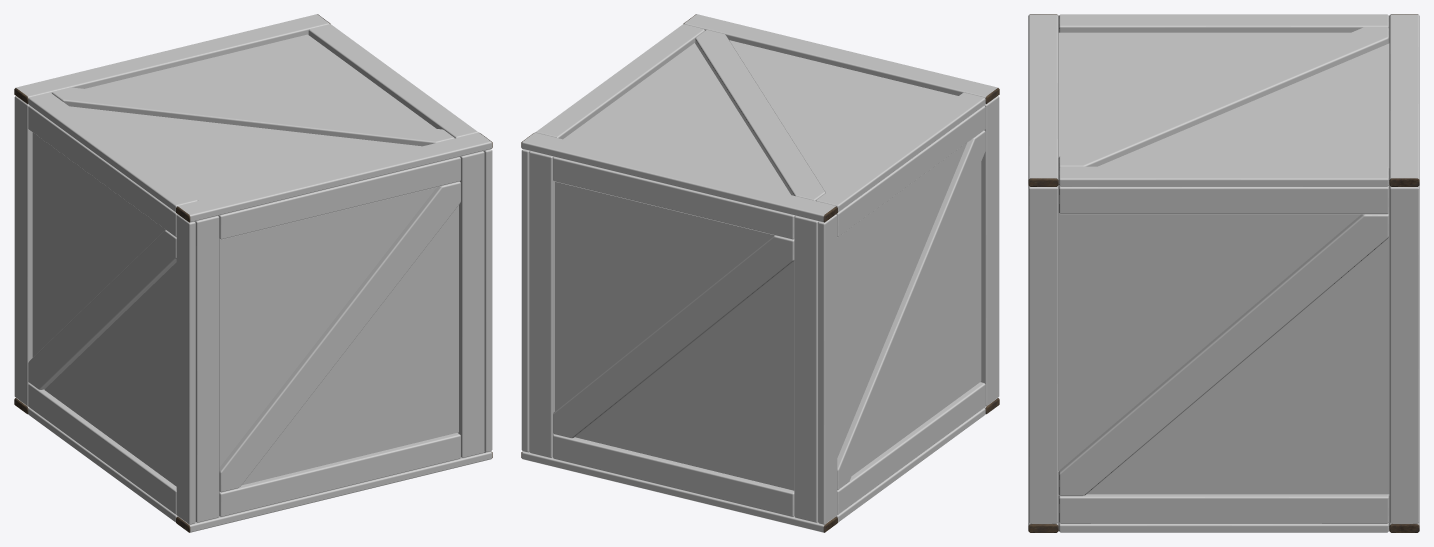
3 views of the same model, side by side, from view 1: azimuth 30°, elevation 25°; view 2: azimuth 150°, elevation 25°; view 3: azimuth 270°, elevation 25° (orthographic). The views are drawn at different scales.
Parts seen in each view (by area): view 1: SM_Box_5_01_LOD0; view 2: SM_Box_5_01_LOD0; view 3: SM_Box_5_01_LOD0.
Part boxes in pixels (x1,y1,x2,y2): SM_Box_5_01_LOD0: (14, 14, 492, 532); SM_Box_5_01_LOD0: (521, 14, 999, 532); SM_Box_5_01_LOD0: (1028, 14, 1419, 532).
Size of the model in its own units: 80.2 by 80 by 80.
